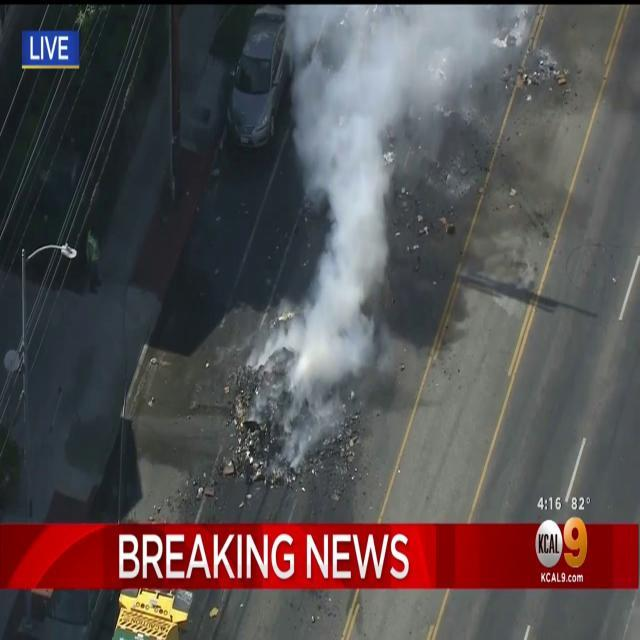Smoke: (270, 3, 420, 420)
